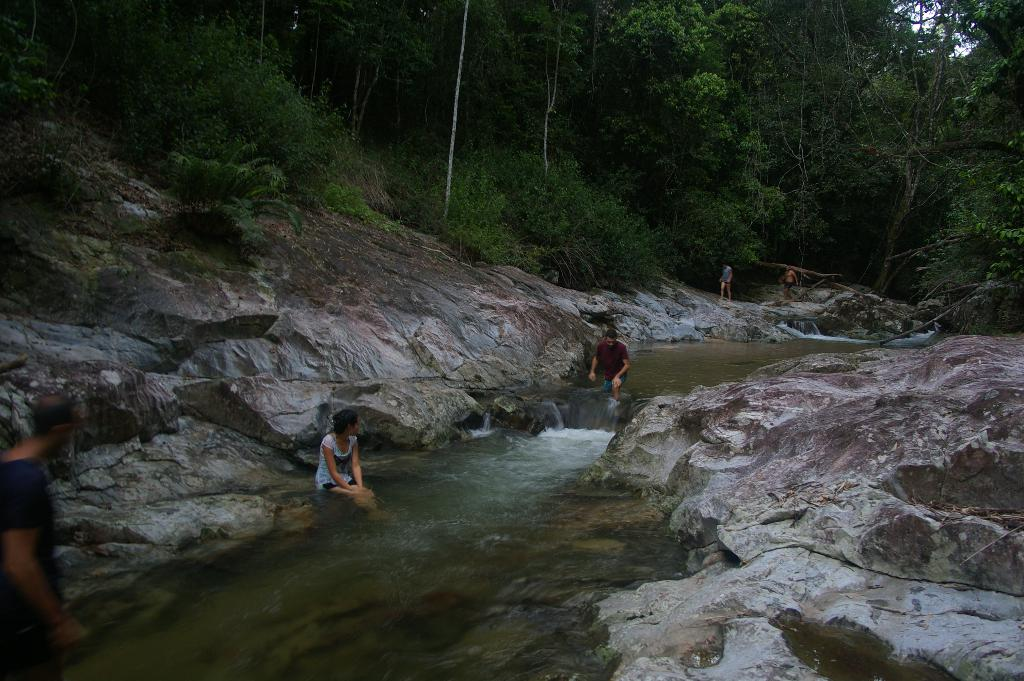Tree: (1, 0, 1023, 336)
